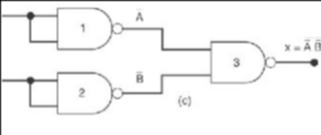nand: (206, 38, 278, 85), (53, 5, 124, 52), (53, 69, 124, 115)
